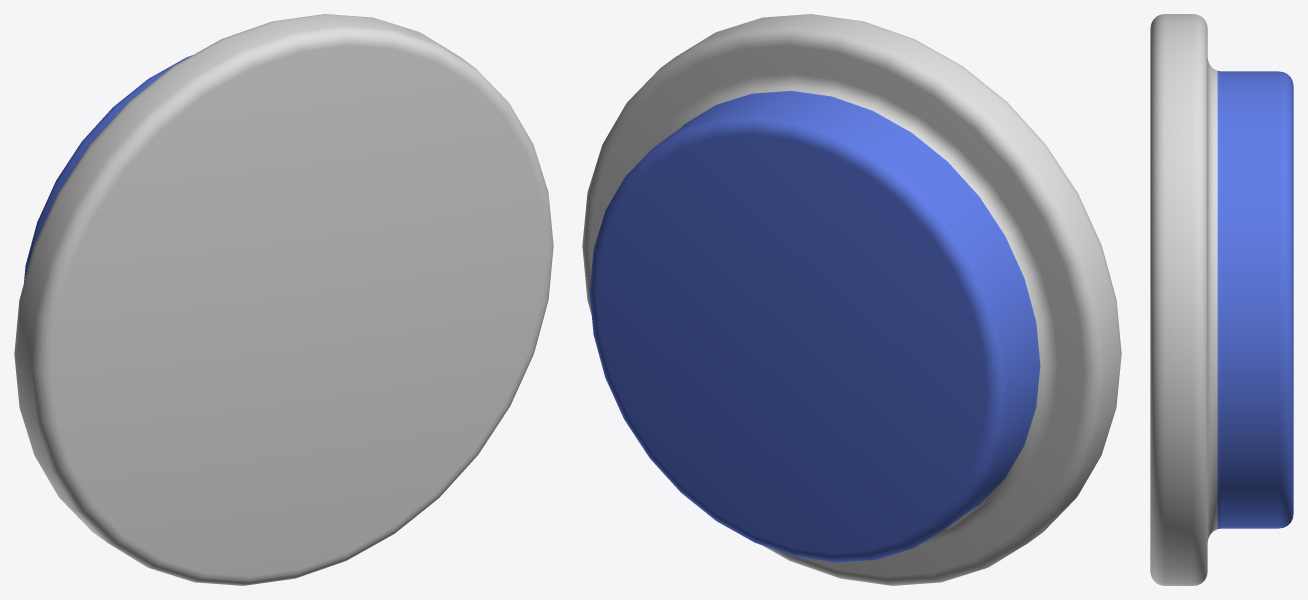
File: Obstacle.fbx
3 views of the same model, side by side, from view 1: azimuth 30°, elevation 25°; view 2: azimuth 150°, elevation 25°; view 3: azimuth 270°, elevation 25° (orthographic). The views are drawn at different scales.
Parts seen in each view (by area): view 1: Cylinder; view 2: Cylinder; view 3: Cylinder.
Part boxes in pixels (x1,y1,x2,y2): Cylinder: (14, 14, 553, 585); Cylinder: (582, 14, 1121, 585); Cylinder: (1150, 14, 1293, 585).
Size of the model in its own units: 100 by 100 by 25.
